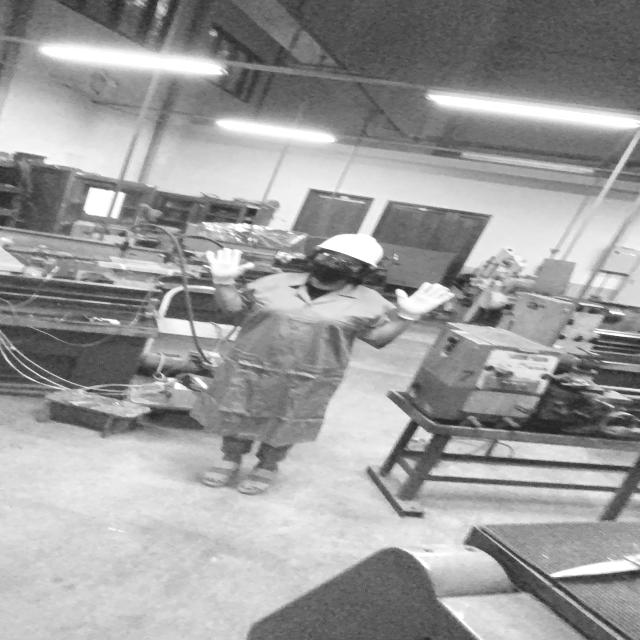glasses: (302, 250, 364, 272)
hand_glove: (392, 278, 456, 322), (201, 245, 257, 282)
head_helmet: (315, 230, 392, 270)
person: (189, 228, 460, 499)
